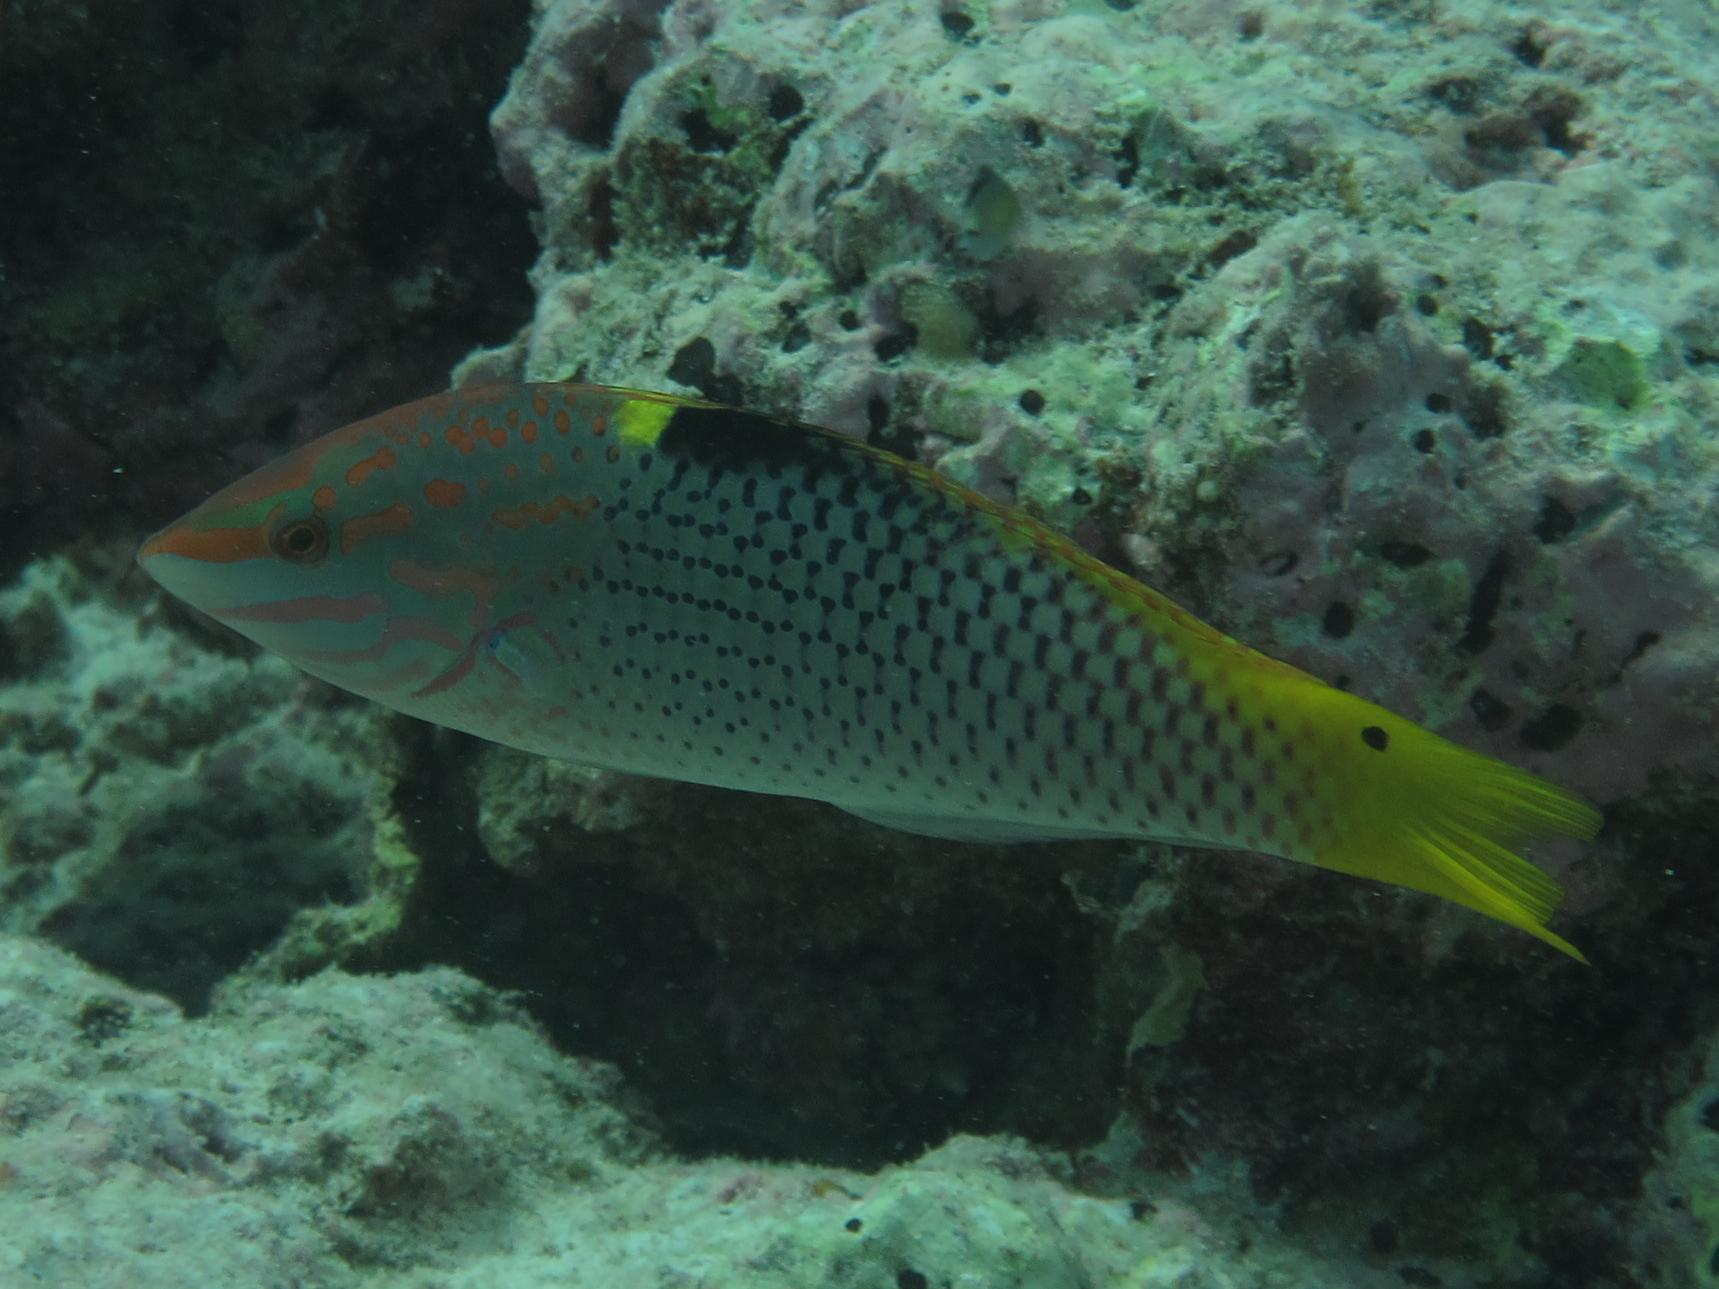Halichoeres hortulanus: (120, 324, 1604, 998)
